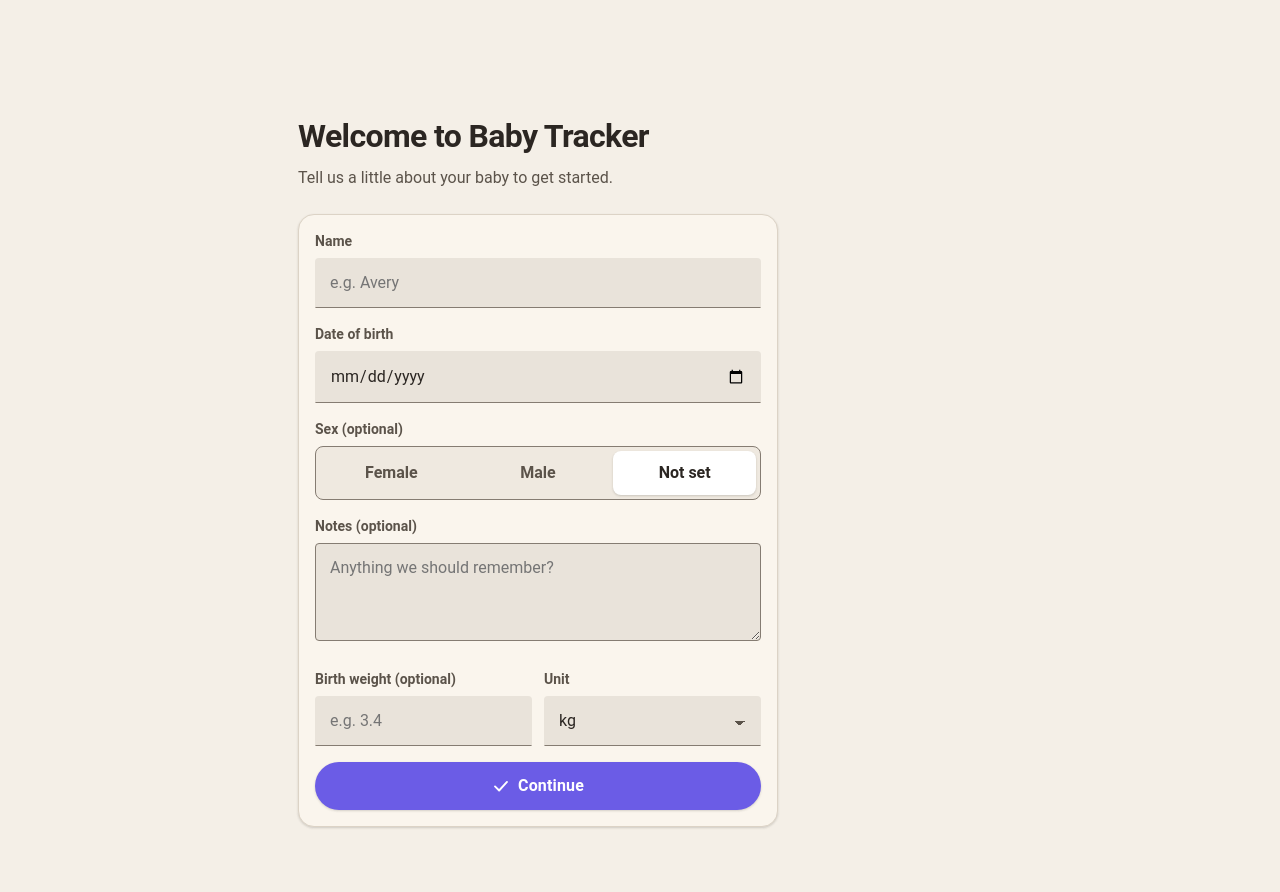
Test: Weight tracking › shows the weight progress chart on the dashboard
The image size is (1280, 892).
Type "Avery" into the field labelled "Name" at (538, 283), box [315,258,761,308]
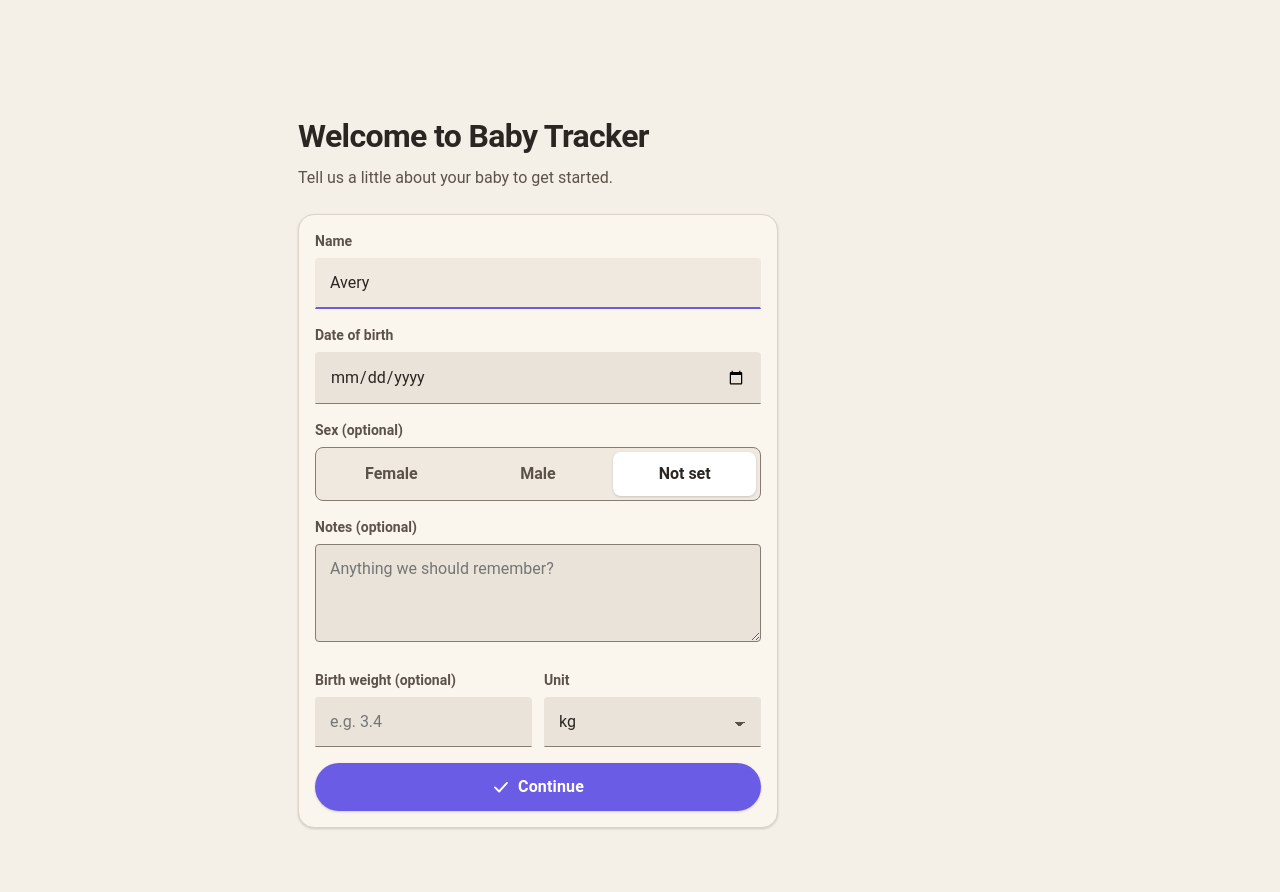
Type "2026-01-15" into the date field labelled "Date of birth" at (538, 378), box [315,352,761,404]
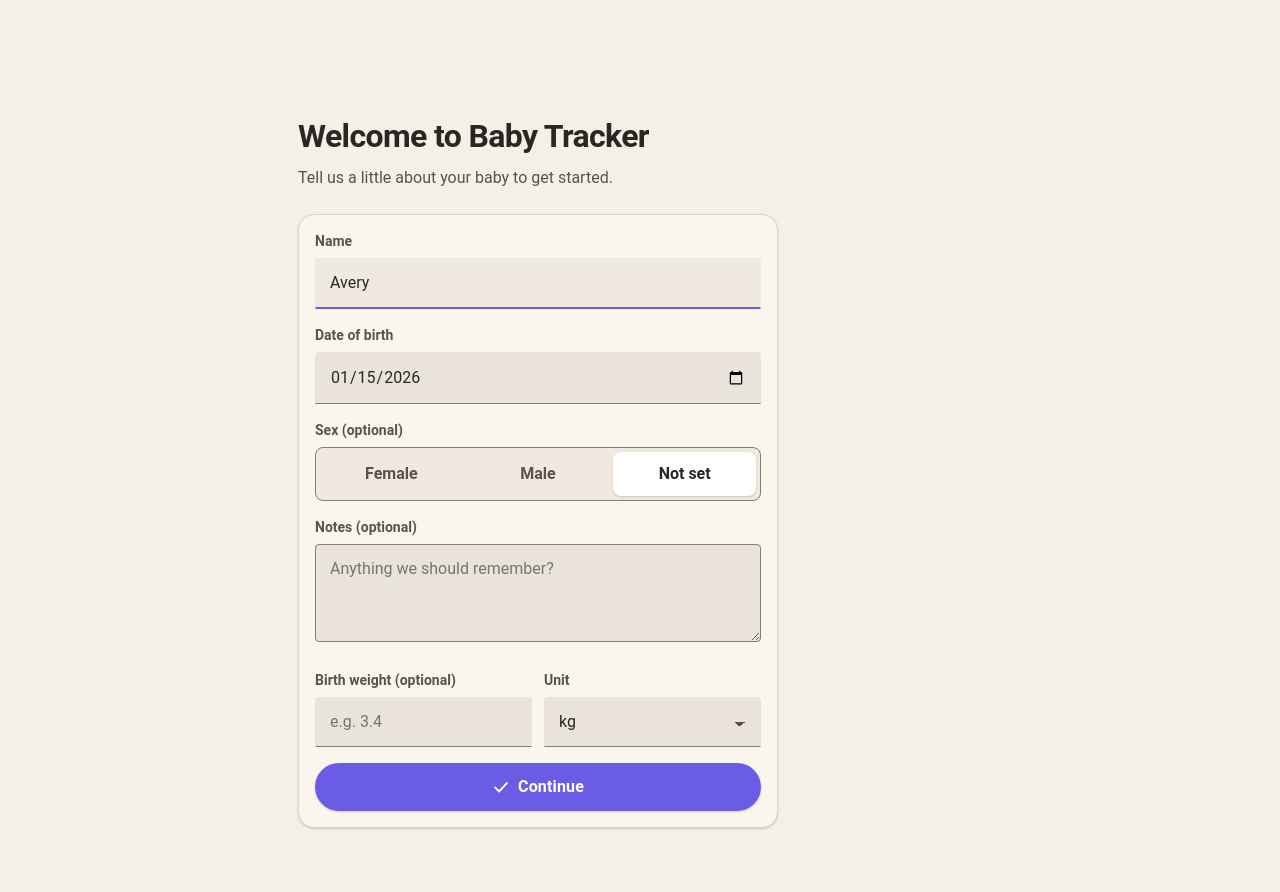
Click the button "Continue" at (538, 787), box [315,763,761,811]
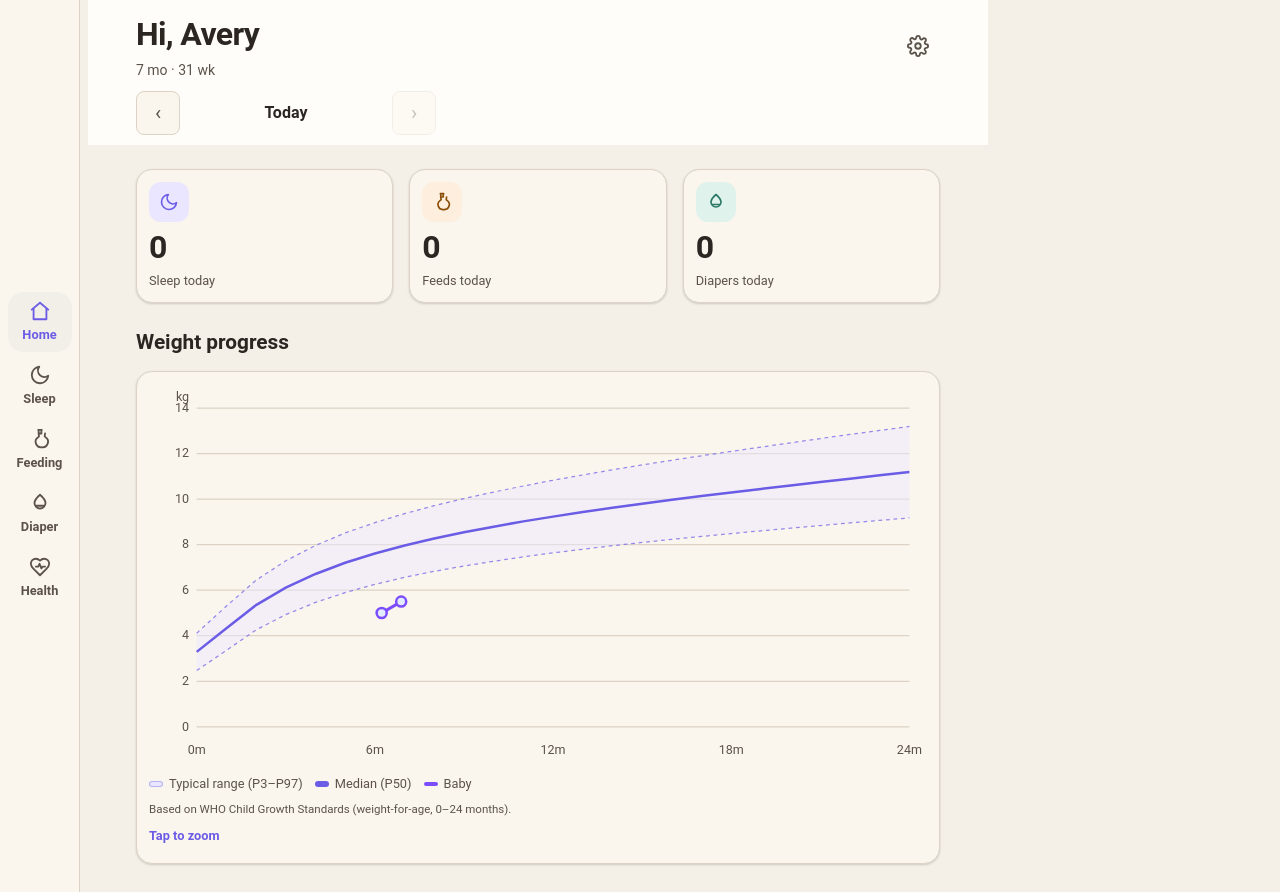
Expected: the heading "Weight progress" is shown, [136,330,289,354]
Expected: the picture named "weight growth chart" is shown, [149,388,927,764]
